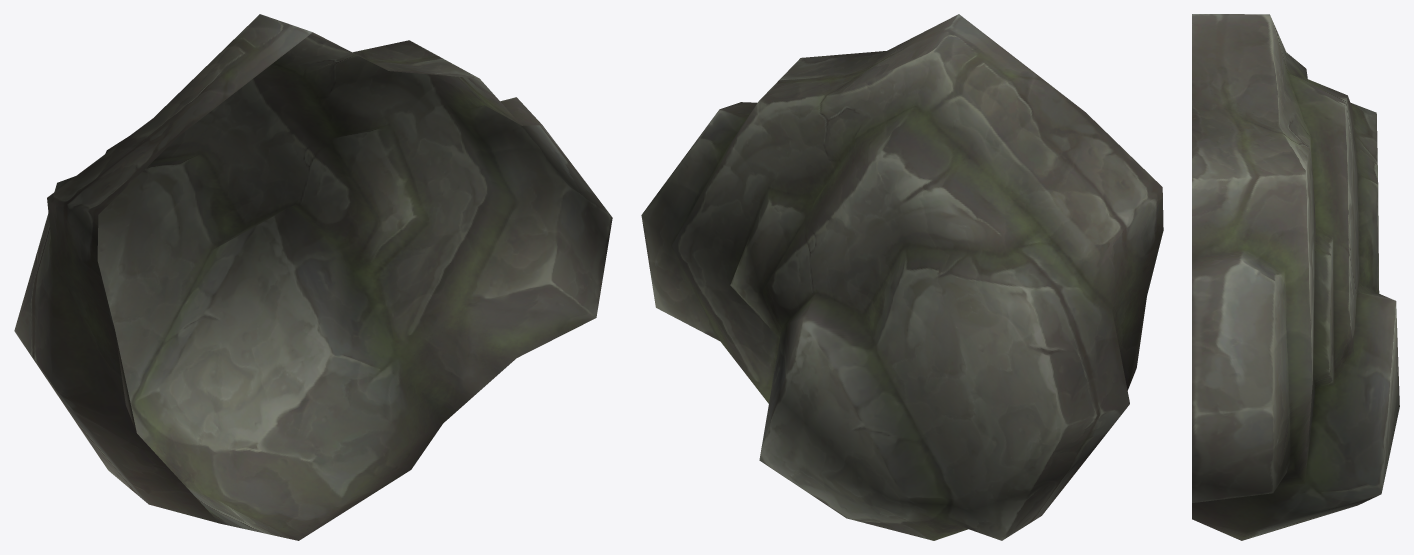
Rendered from Stone3.fbx.
3 renders of one model, left to right at view 1: azimuth 30°, elevation 25°; view 2: azimuth 150°, elevation 25°; view 3: azimuth 270°, elevation 25°, orthographic. The views are drawn at different scales.
Parts seen in each view (by area): view 1: Stone3_LOD0; view 2: Stone3_LOD0; view 3: Stone3_LOD0.
Boxes of the visible parts, <box> form: Stone3_LOD0: <box>14,14,612,540</box>; Stone3_LOD0: <box>641,14,1163,540</box>; Stone3_LOD0: <box>1192,14,1399,540</box>.
Size of what is drawn, in the model's own units: 3.78 by 3.51 by 1.32.
